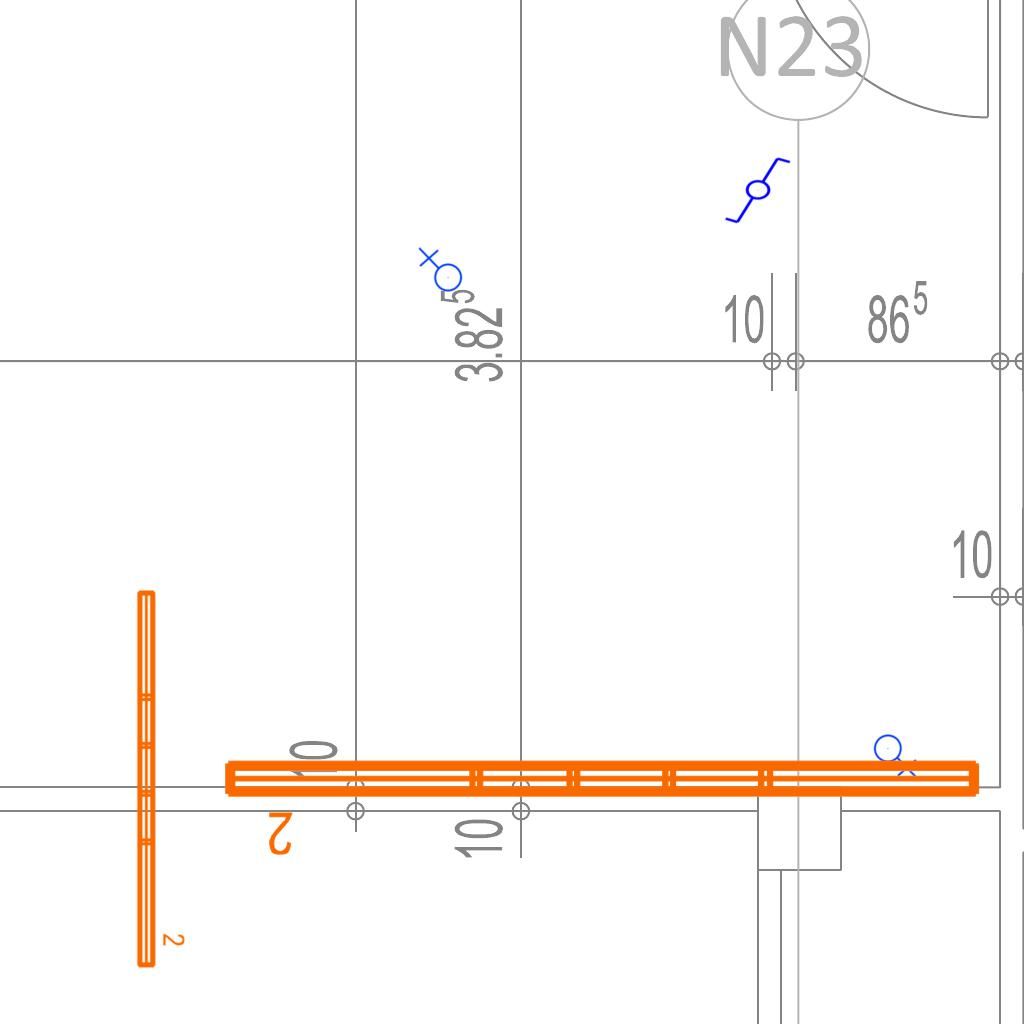Ambulanz_Pendelleuchte_LED: (216, 748, 990, 860), (131, 585, 187, 972)
Elektroanschluss_allgemein_230V_Geraeteanschlussdose_230V: (873, 730, 920, 779), (416, 247, 463, 296)
Wechselschalter: (723, 155, 801, 227)
